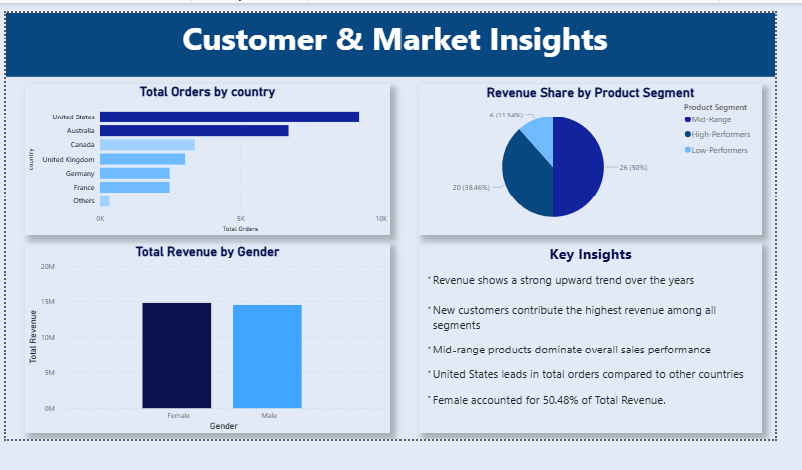

The dashboard page shown, as its layout file describes it:
{"tool":"powerbi","page":{"name":"Page 2","canvas":[1280,720],"ordinal":1},"visuals":[{"type":"pieChart","title":"Revenue Share by Product Segment","fields":{"Y":["Count(fact_sales.sales_amount)"],"Category":["dim_products.product_segment"]},"box":[686.7,120,571.7,255],"z":0},{"type":"clusteredBarChart","fields":{"Category":["dim_customers.country"],"Y":["Measures (2).Total Orders"]},"box":[31.7,120,608.3,255],"z":1000},{"type":"clusteredColumnChart","fields":{"Category":["dim_customers.gender"],"Y":["Sum(fact_sales.sales_amount)"]},"box":[31.7,388.3,608.3,321.7],"z":3000},{"type":"textbox","box":[686.7,388.3,571.7,321.7],"z":4000},{"type":"textbox","box":[0,0,1280,108.3],"z":5000}]}

Visuals, with their boxes on the page's 1280x720 design canvas (x1, y1, x2, y2). These are canvas units, not pixel positions in the 802x470 screenshot, which may show the page scaled, cropped or inside an application window:
"Revenue Share by Product Segment" pieChart: 687 120 1258 375
clusteredBarChart - dim_customers.country x Measures (2).Total Orders: 32 120 640 375
clusteredColumnChart - dim_customers.gender x Sum(fact_sales.sales_amount): 32 388 640 710
textbox: 687 388 1258 710
textbox: 0 0 1280 108
